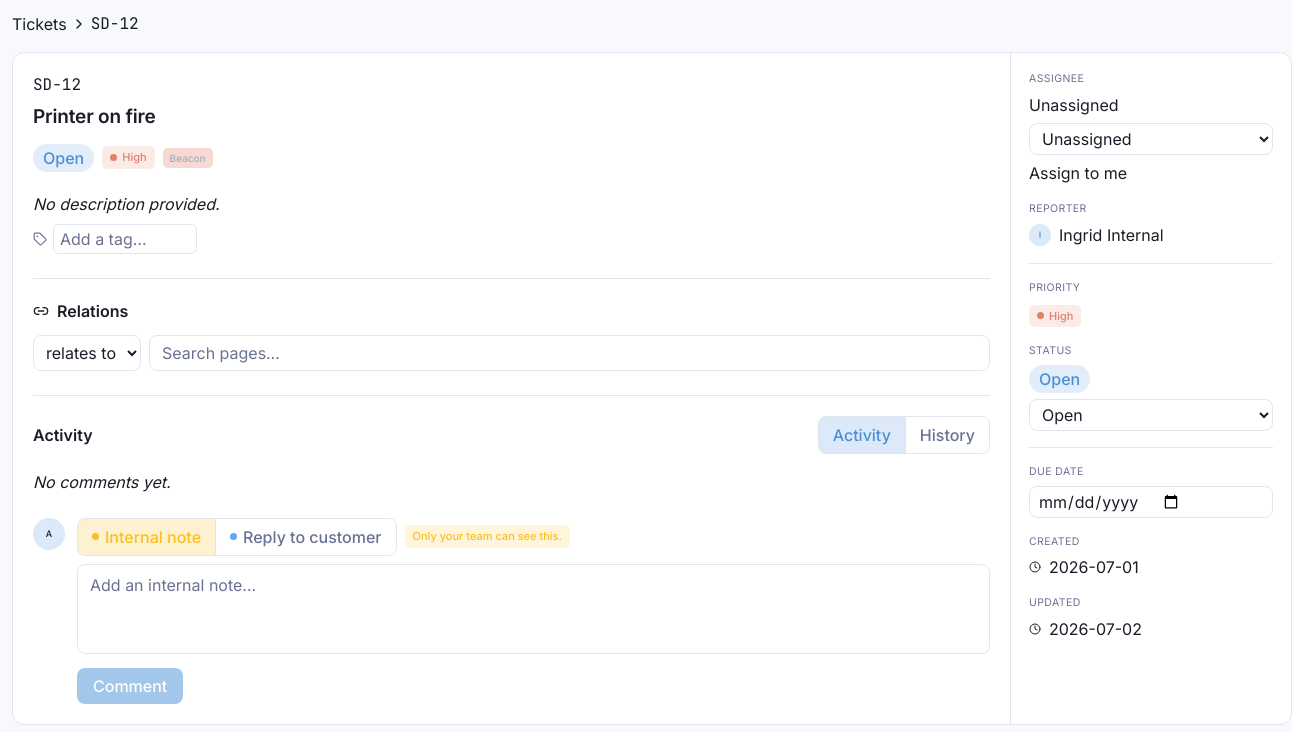
history tab › reveals the close and the reopen, each with old -> new, only after toggling
The width and height of the screenshot is (1292, 732).
Check: the text box with test id "comment-composer" is shown, box x1=77 y1=564 x2=990 y2=654
# Toggle to History.
Click the radio button labelled "History".
click(947, 435)  # box x1=906 y1=417 x2=989 y2=453
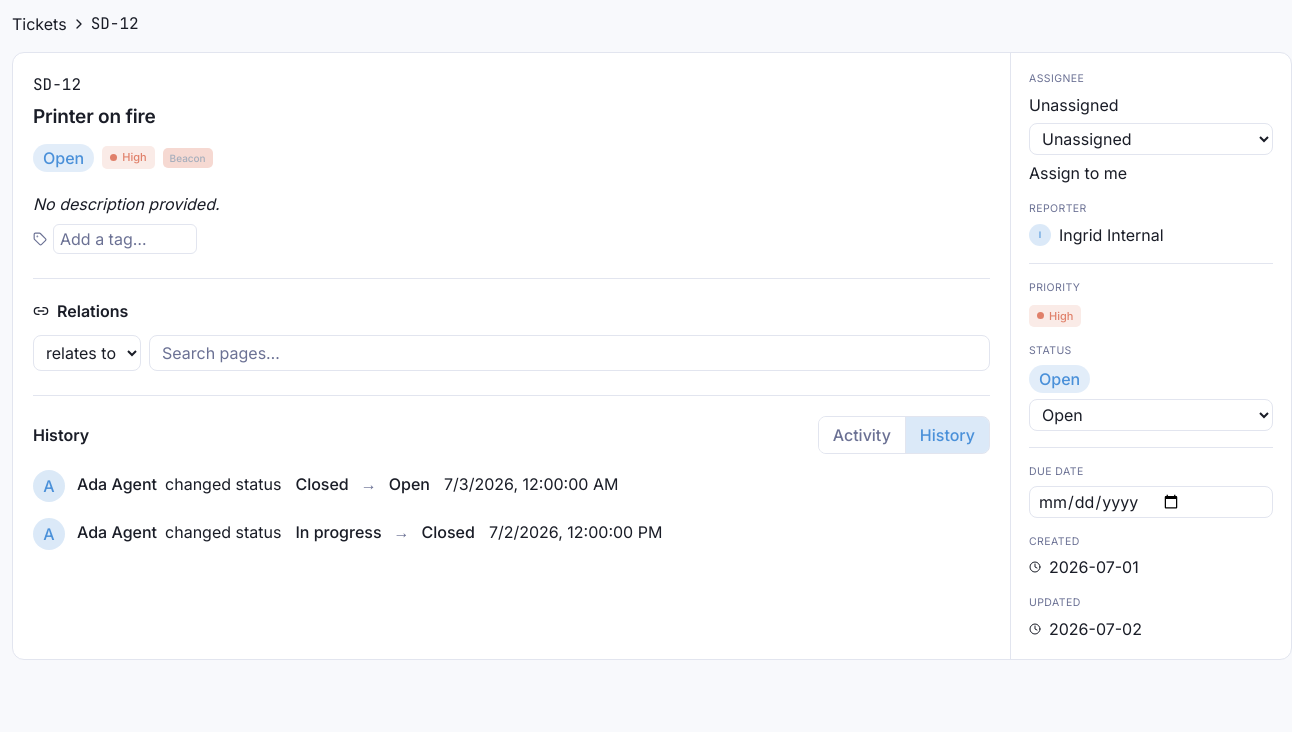
Check: the number of list items with test id "history-row" is 2, box x1=33 y1=470 x2=618 y2=502; x1=33 y1=518 x2=662 y2=550
Check: the text box with test id "comment-composer" is gone
Check: the number of elements with test id "history-status-transition" is 2, box x1=289 y1=470 x2=436 y2=498; x1=289 y1=518 x2=481 y2=546
